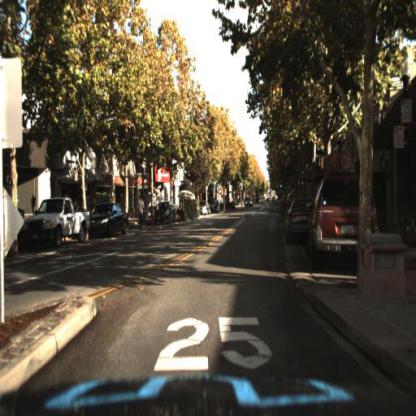car: (311, 170, 386, 272), (21, 198, 91, 248), (86, 202, 130, 239), (284, 196, 314, 247), (153, 198, 178, 224), (196, 201, 212, 217), (244, 192, 255, 211)
pedestrian: (135, 194, 145, 231)
